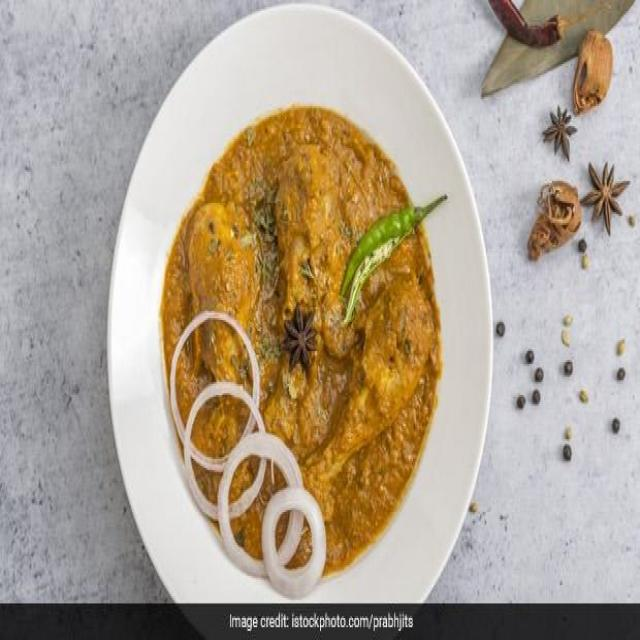chicken: (165, 160, 446, 585)
